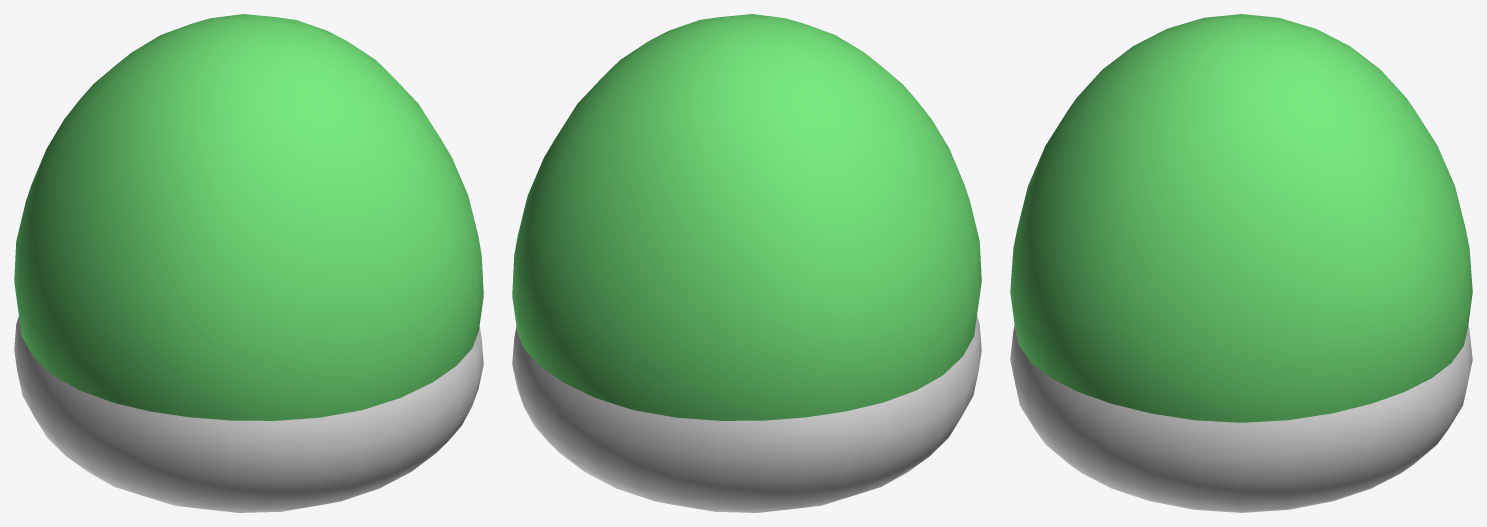
The model's file is body_ns.glb.
3 views of the same model, side by side, from view 1: azimuth 30°, elevation 25°; view 2: azimuth 150°, elevation 25°; view 3: azimuth 270°, elevation 25° (orthographic).
Visible parts, largest first — view 1: Cube.001, Cube; view 2: Cube.001, Cube; view 3: Cube.001, Cube.
Part boxes in pixels (x1,y1,x2,y2): Cube.001: (14, 14, 483, 420); Cube: (14, 316, 483, 512); Cube.001: (512, 14, 981, 420); Cube: (512, 316, 981, 512); Cube.001: (1010, 14, 1472, 422); Cube: (1010, 325, 1472, 512).
Bounding box in the file's own units: 0.6689 × 0.7023 × 0.6689.
